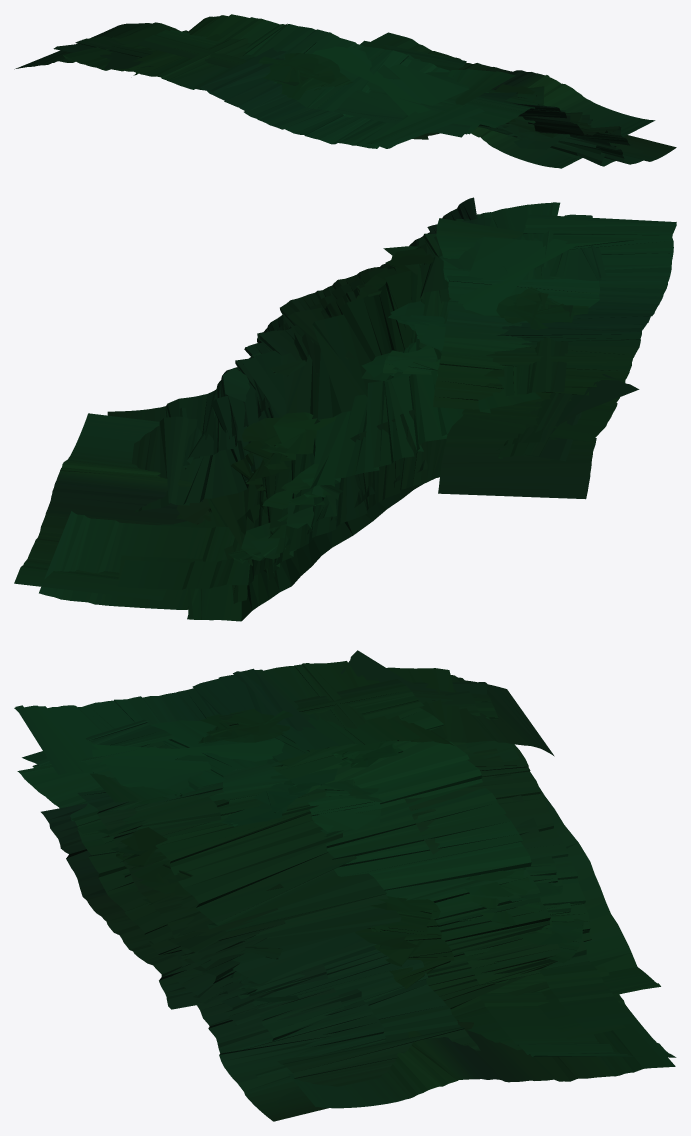
3 views of the same model, one above another, from view 1: azimuth 30°, elevation 25°; view 2: azimuth 150°, elevation 25°; view 3: azimuth 270°, elevation 25° (orthographic). The views are drawn at different scales.
Parts seen in each view (by area): view 1: Patch003; view 2: Patch003; view 3: Patch003.
Part boxes in pixels (left/top/right/bottom): Patch003: left=14, top=14, right=676, bottom=168; Patch003: left=14, top=197, right=676, bottom=621; Patch003: left=14, top=650, right=676, bottom=1121.
Size of the model in its own units: 1.65 by 0.558 by 1.59.
